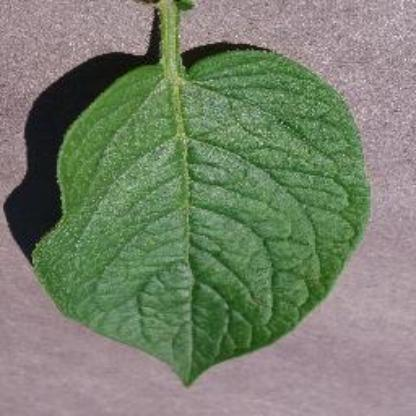Healthy-plant: (24, 1, 370, 384)
